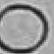no answer: (0, 3, 49, 54)
